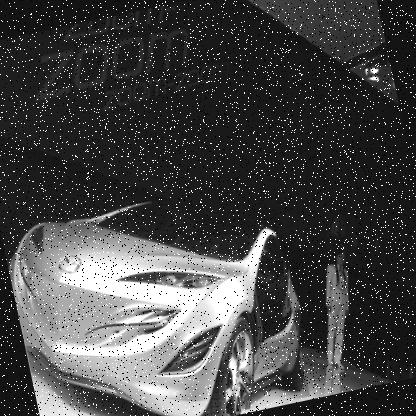Car: (0, 166, 311, 415)
